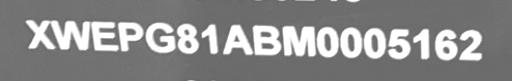letter: (50, 18, 90, 51), (280, 23, 316, 58), (220, 23, 254, 56), (251, 22, 283, 57), (24, 17, 56, 50), (144, 21, 176, 54), (90, 20, 120, 51), (116, 20, 144, 53), (338, 25, 364, 60), (362, 26, 388, 61), (433, 27, 459, 62), (458, 27, 484, 62), (387, 28, 413, 63), (316, 25, 340, 60), (176, 22, 200, 55), (412, 27, 432, 62), (200, 22, 220, 55)
